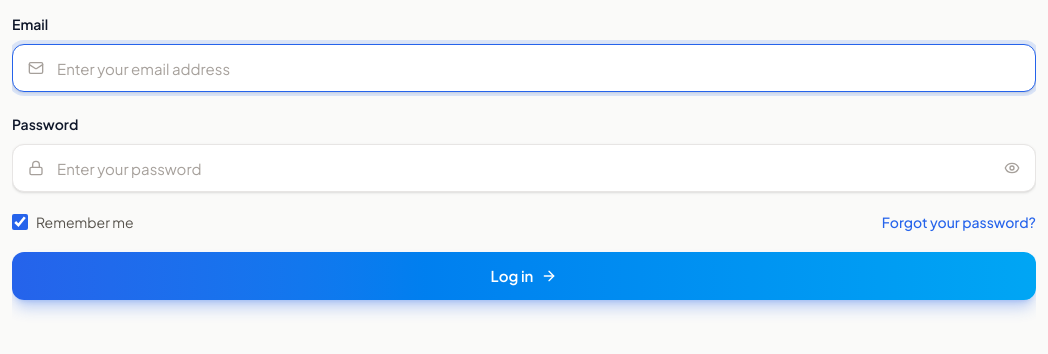
Test: LoginForm › rejects an invalid email
Type "nope" into the field labelled "Email".
click(524, 68); type("nope")  # box left=12, top=44, right=1036, bottom=92
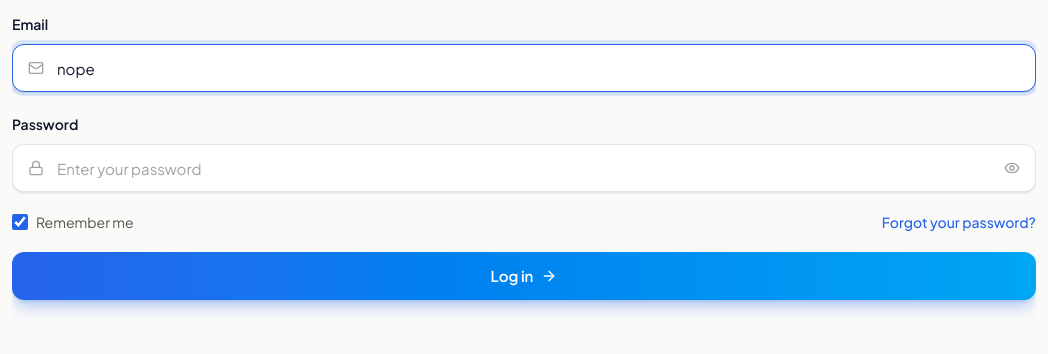
Type "secret" into the password field labelled "Password".
click(524, 168); type("secret")  # box left=12, top=144, right=1036, bottom=192
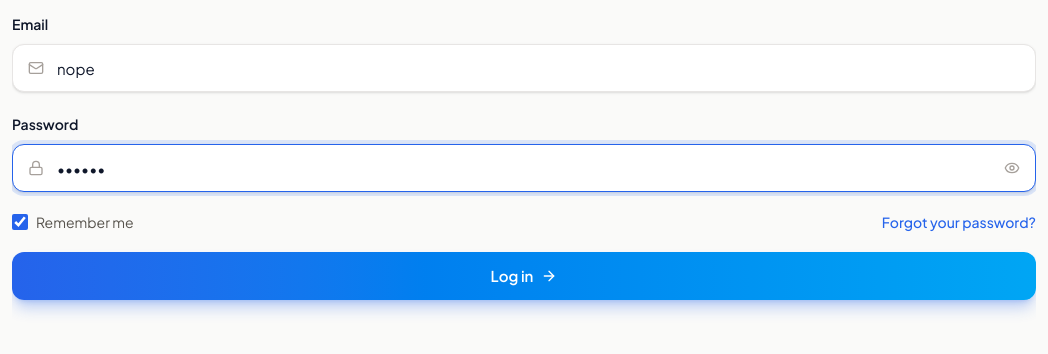
Click the button "Log in".
click(524, 276)  # box left=12, top=252, right=1036, bottom=300
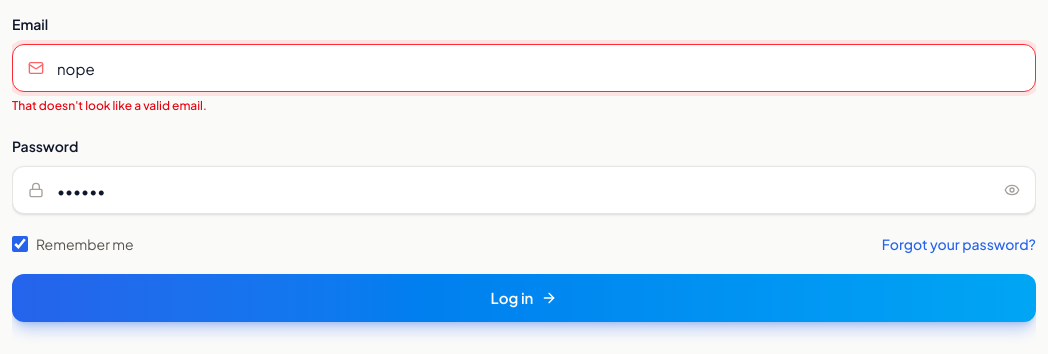
Now the text "That doesn't look like a valid email." is shown, box left=12, top=98, right=207, bottom=113
